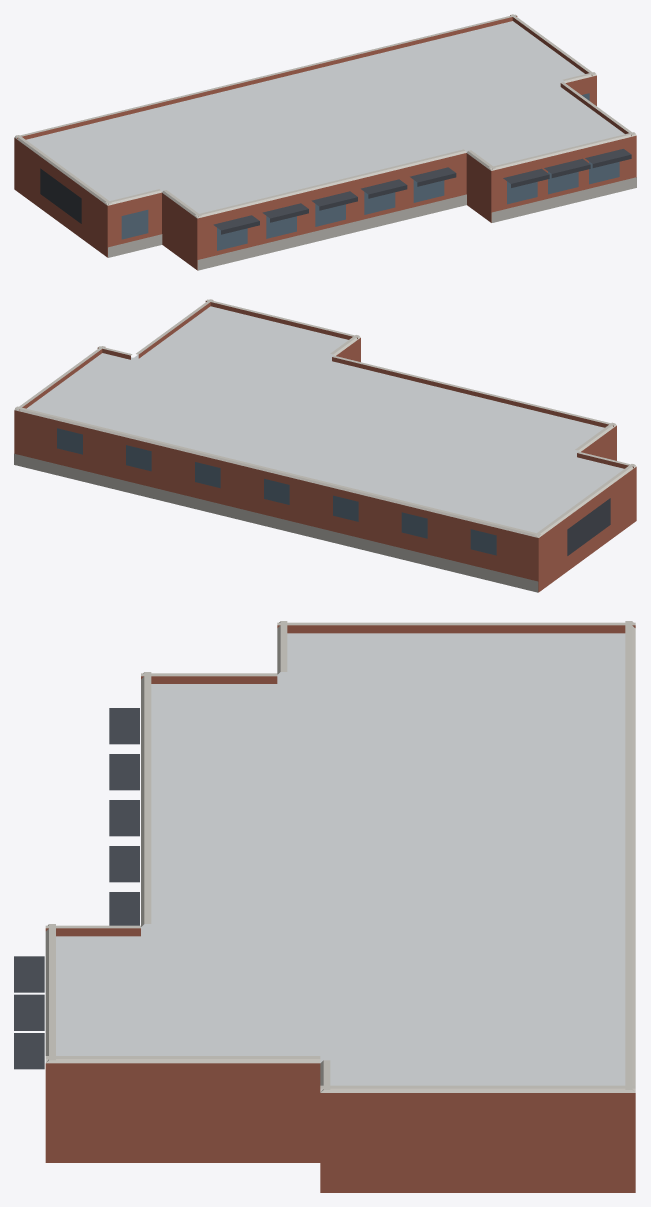
The model's file is clt-cne-330-camp-road.glb.
3 renders of one model, top to bottom at view 1: azimuth 30°, elevation 25°; view 2: azimuth 150°, elevation 25°; view 3: azimuth 270°, elevation 25°, orthographic. The views are drawn at different scales.
Visible parts, largest first — view 1: 330 Camp Road, Camp North End; view 2: 330 Camp Road, Camp North End; view 3: 330 Camp Road, Camp North End.
Boxes of the visible parts, x1=… form: 330 Camp Road, Camp North End: x1=14, y1=14, x2=636, y2=270; 330 Camp Road, Camp North End: x1=14, y1=299, x2=636, y2=592; 330 Camp Road, Camp North End: x1=14, y1=621, x2=635, y2=1192.
Size of the model in its own units: 48.95 by 5 by 27.46.
